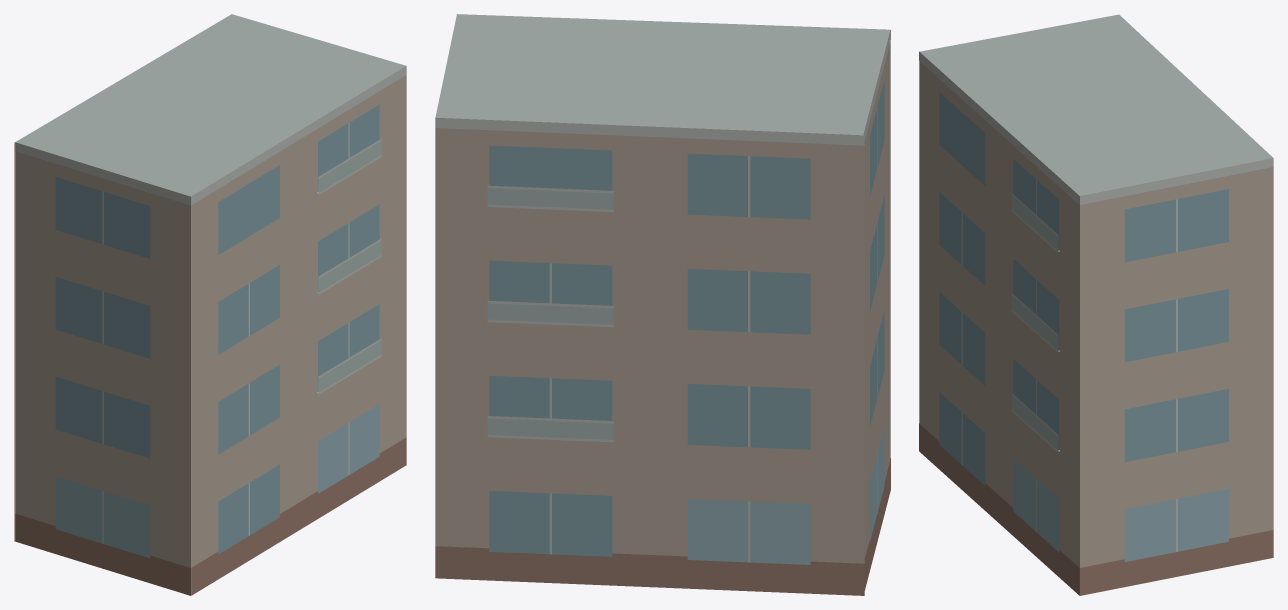
The model's file is survey-upis-32538269.glb.
The picture shows the model from 3 angles, left to right: view 1: azimuth 30°, elevation 25°; view 2: azimuth 150°, elevation 25°; view 3: azimuth 270°, elevation 25°; orthographic projection. The views are drawn at different scales.
Parts seen in each view (by area): view 1: survey-upis-32538269.tmp; view 2: survey-upis-32538269.tmp; view 3: survey-upis-32538269.tmp.
Part boxes in pixels (box(x1,y1,x2,y2)): survey-upis-32538269.tmp: box(14, 14, 406, 595); survey-upis-32538269.tmp: box(435, 14, 890, 595); survey-upis-32538269.tmp: box(919, 14, 1273, 595).
Size of the model in its own units: 10.66 by 10.9 by 8.77.
